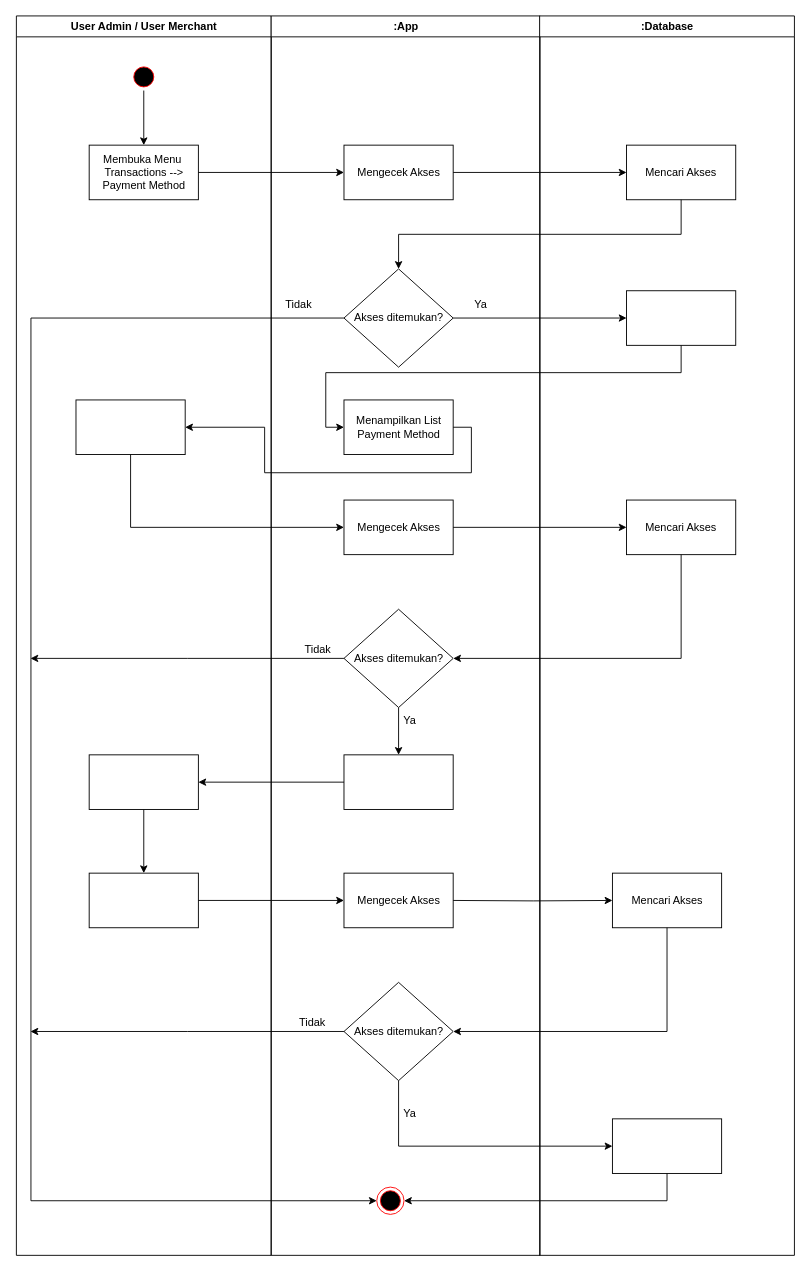
The diagram is 810 pixels wide and 1271 high, and some of its shapes have lost their labels. The shapes that lost their labels are listed below. From the top down, each one's centre as x and y in pixels, then its label:
At point 681,317: "Mendapatkan List Payment Method".
At point 130,427: "Klik Add New / Edit Payment Method".
At point 143,781: "Melengkapi Form".
At point 398,781: "Menampilkan Form".
At point 143,900: "Klik Simpan".
At point 667,1145: "Menyimpan Data".
